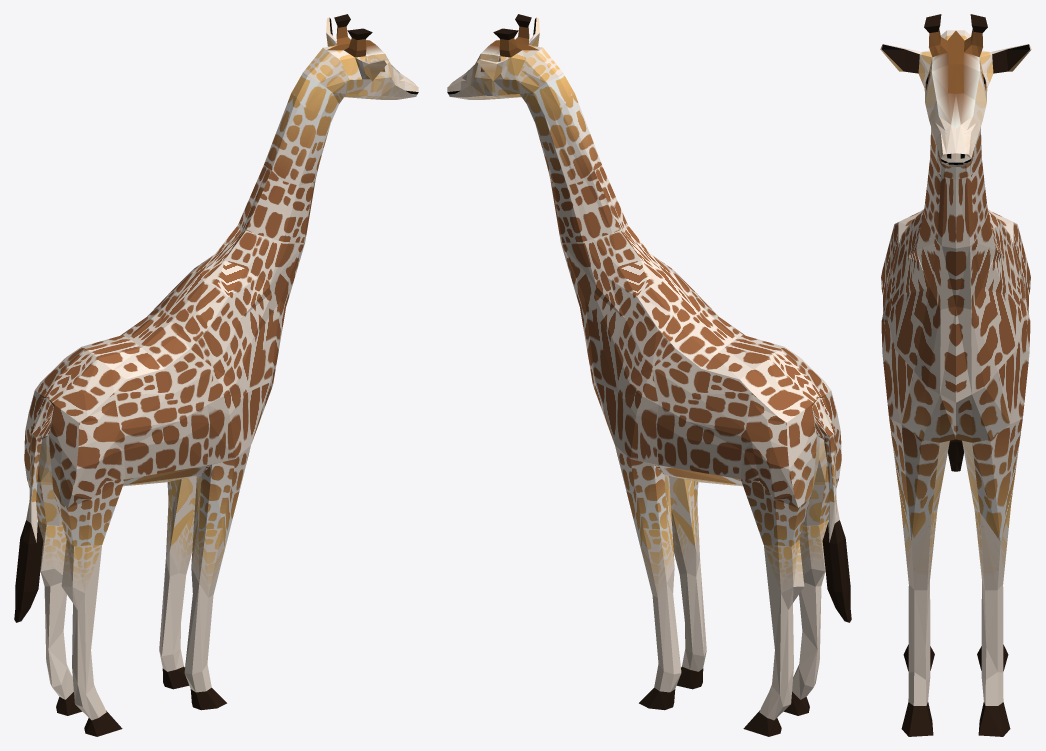
Rendered from giraffe.fbx.
3 views of the same model, side by side, from view 1: azimuth 30°, elevation 25°; view 2: azimuth 150°, elevation 25°; view 3: azimuth 270°, elevation 25° (orthographic). The views are drawn at different scales.
Parts seen in each view (by area): view 1: Plane, Plane.003, Plane.001, Plane.002; view 2: Plane, Plane.003, Plane.001, Plane.002; view 3: Plane, Plane.003, Plane.001, Plane.002.
Boxes of the visible parts, box(x1,y1,x2,y2) form: Plane: box(24, 254, 285, 507); Plane.003: box(27, 445, 250, 736); Plane.001: box(215, 14, 418, 306); Plane.002: box(14, 397, 53, 622); Plane: box(580, 254, 841, 507); Plane.003: box(615, 445, 838, 736); Plane.001: box(447, 14, 650, 306); Plane.002: box(812, 397, 851, 622); Plane: box(881, 209, 1030, 442); Plane.003: box(889, 418, 1022, 736); Plane.001: box(880, 14, 1031, 309); Plane.002: box(948, 439, 963, 471).
Size of the model in its own units: 343 by 519 by 88.37.
7 materials, 4 textured.
